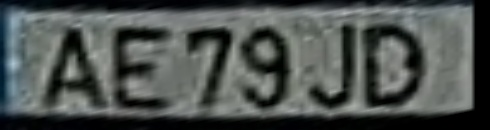7: (180, 24, 239, 114)
9: (237, 21, 298, 115)
A: (35, 24, 115, 113)
D: (362, 21, 431, 112)
E: (112, 25, 176, 113)
J: (302, 21, 362, 114)
